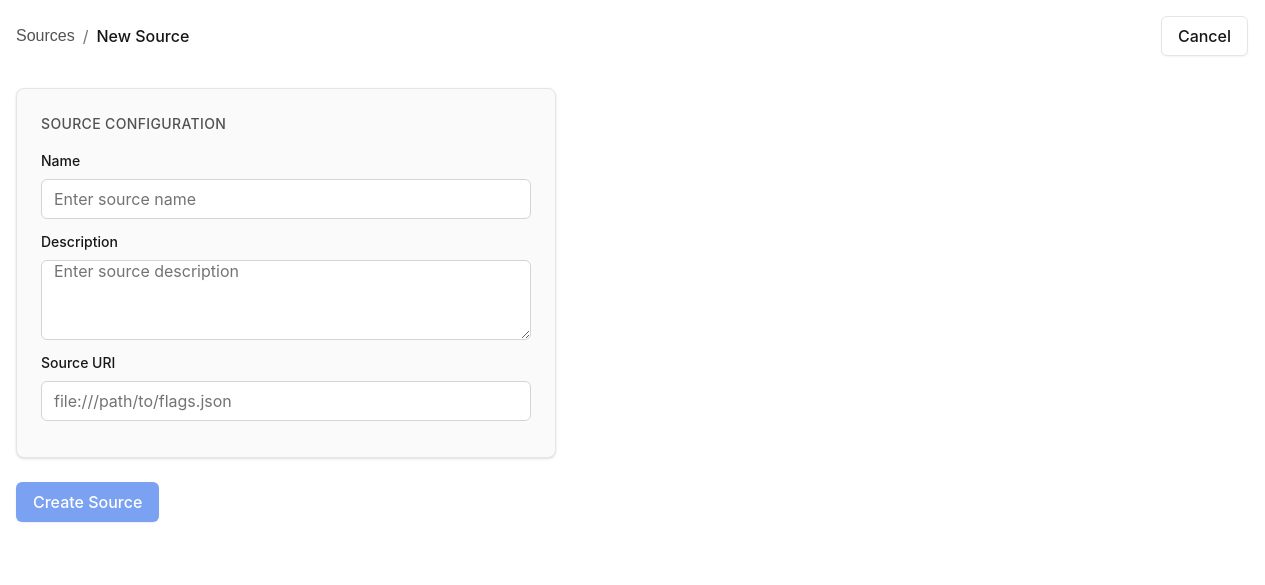
CreateSourcePage › API interactions › should clear error on new submission
Submit and get error
Type "Test Source" into the field labelled "Name". click: (286, 199)
box: [41,179,531,219]
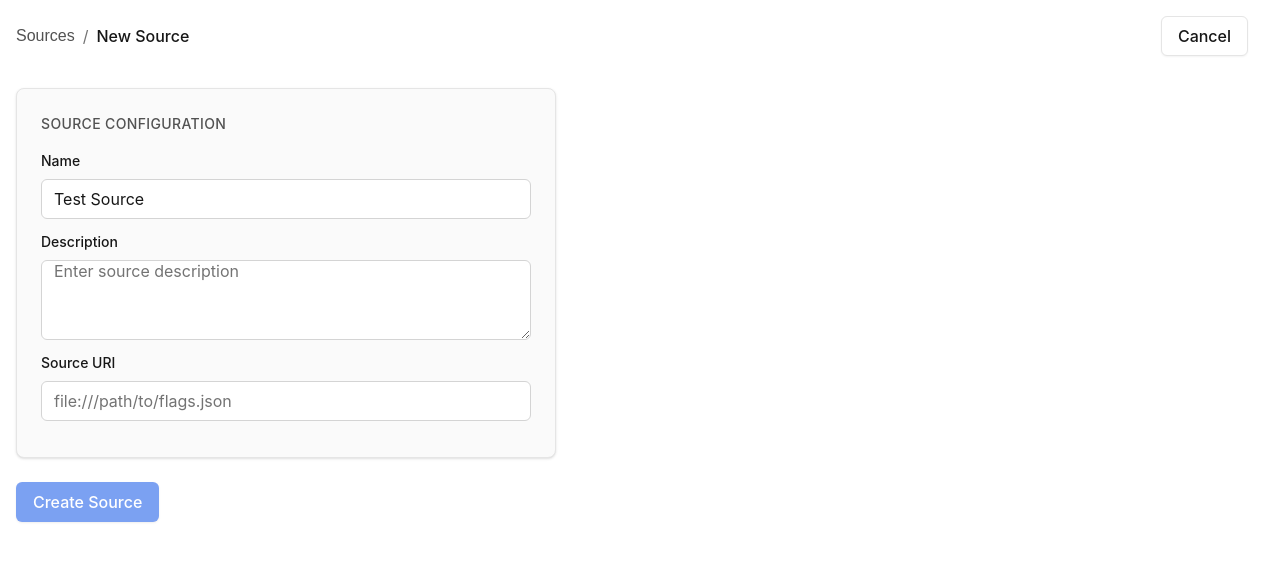
Type "file://test/flags.json" into the field labelled "Source URI". click: (286, 401)
box: [41,381,531,421]
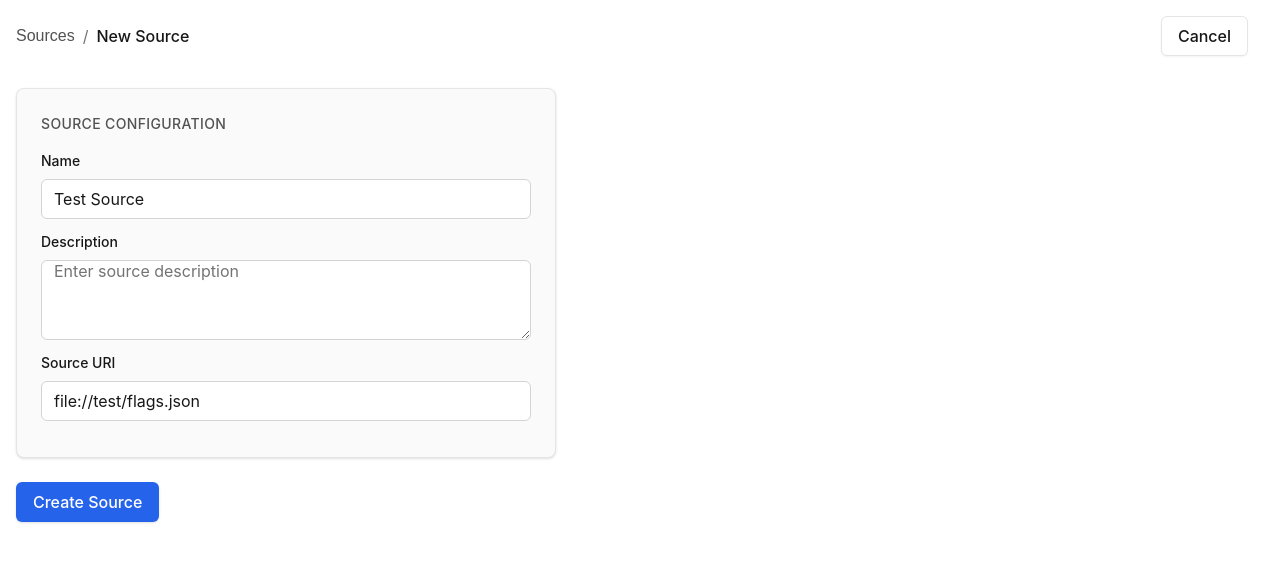
Click the button "Create Source". click: (88, 502)
box: [16,482,159,522]
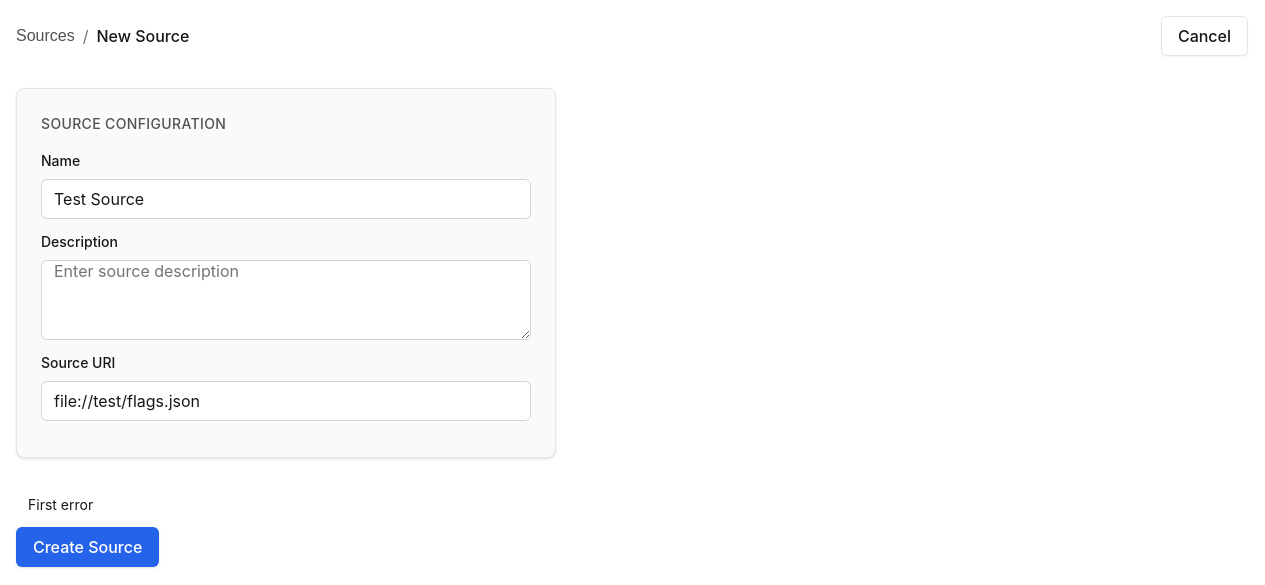
Check: the text "First error" is shown, box [28,496,93,513]
Click the button "Create Source". click: (88, 547)
box: [16,527,159,567]
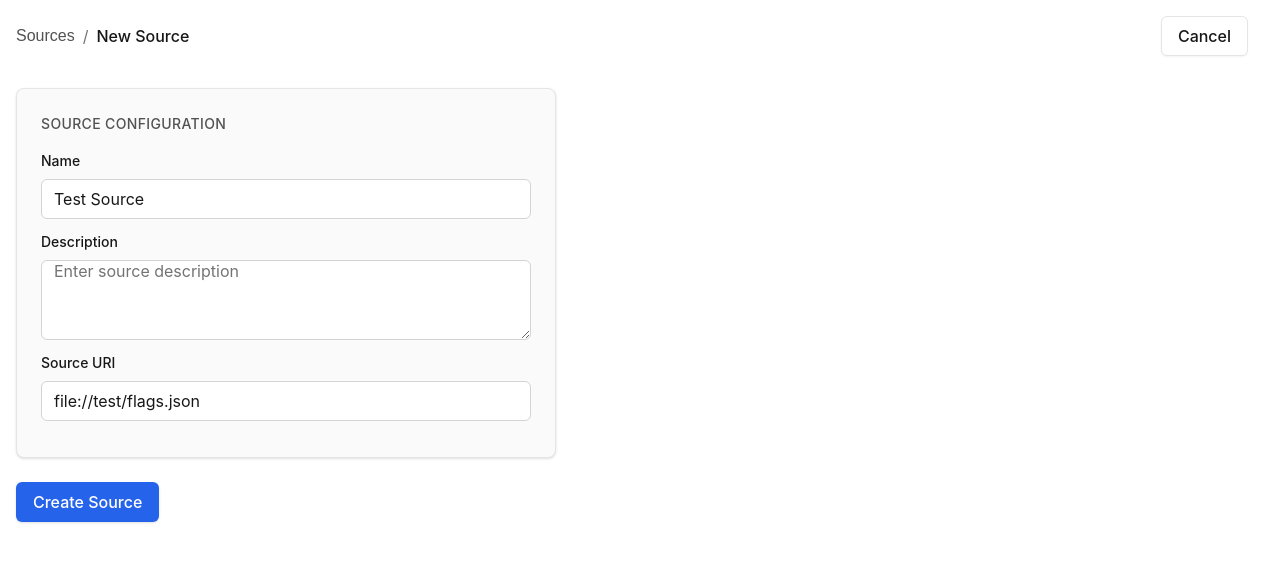
Check: the text "First error" is gone
